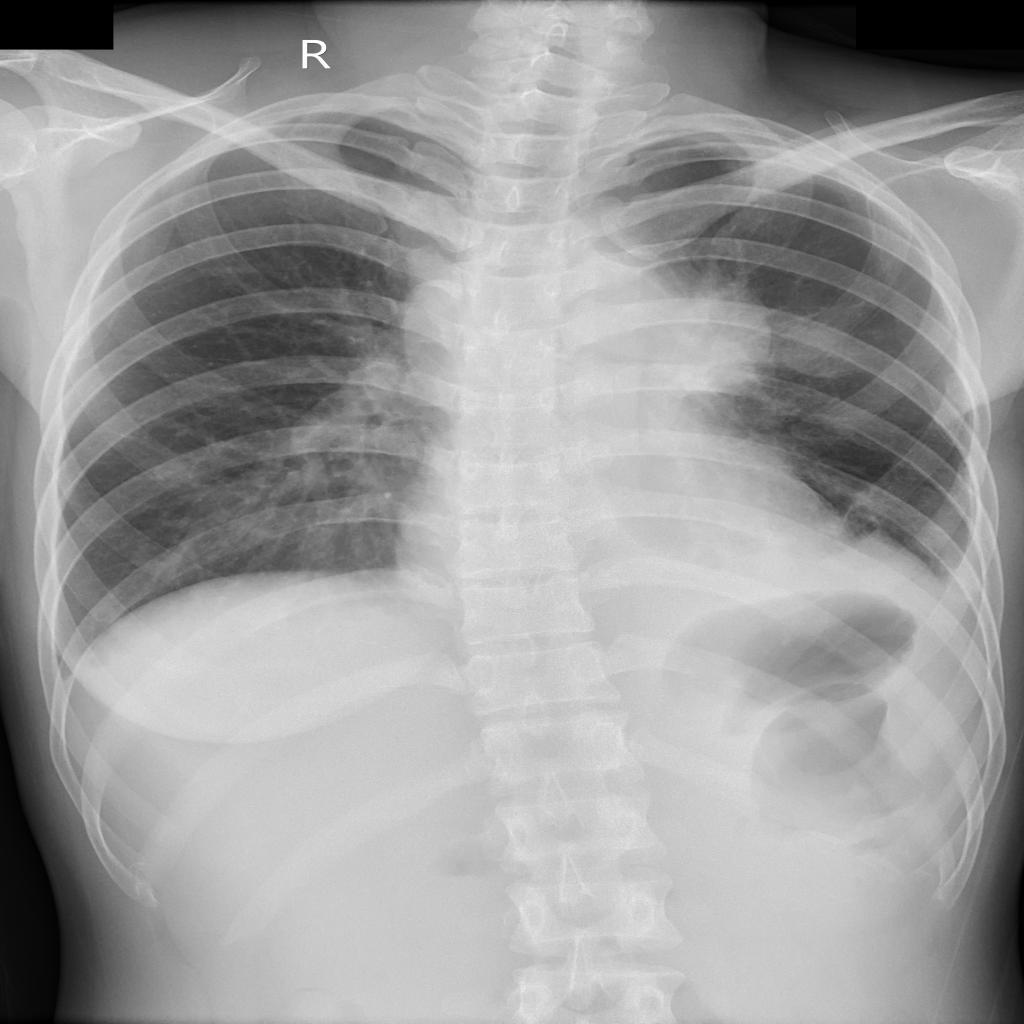Nodule: (650, 287, 771, 393), (396, 281, 466, 381), (787, 311, 886, 380)
